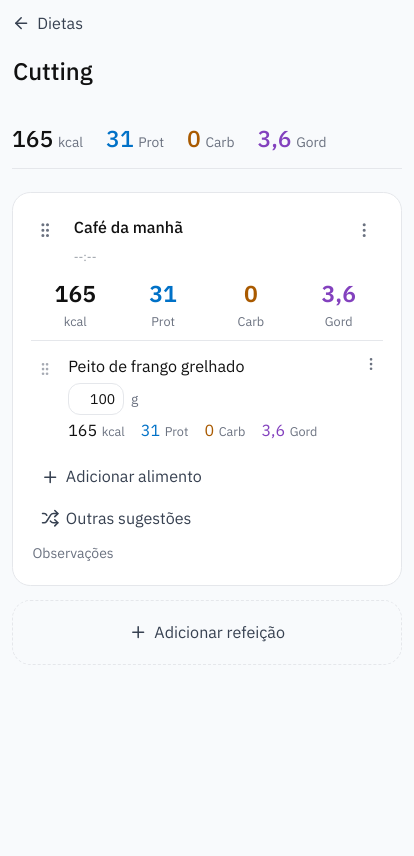
adding food › recomputes when the portion changes
This screenshot has width=414, height=856.
Replace the text in the field named "Quantidade de Peito de frango grelhado" with "200" at (96, 399), box [68,383,124,415]
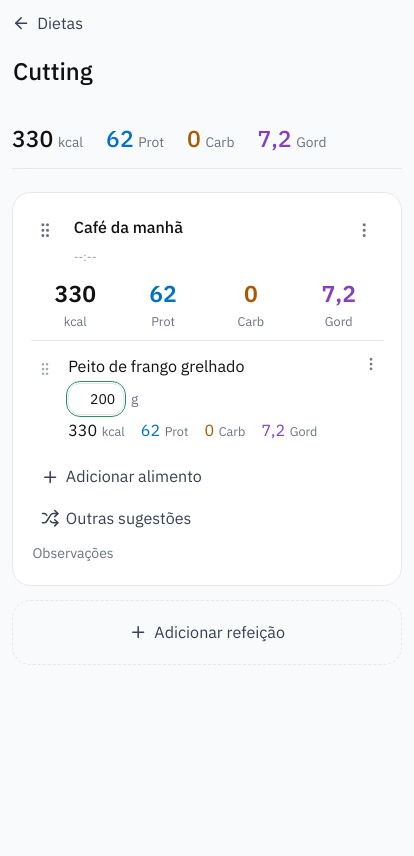
expect the 1st text "330" is shown: met, box [12,122,53,155]
expect the 1st text "62" is shown: met, box [106,122,134,155]
